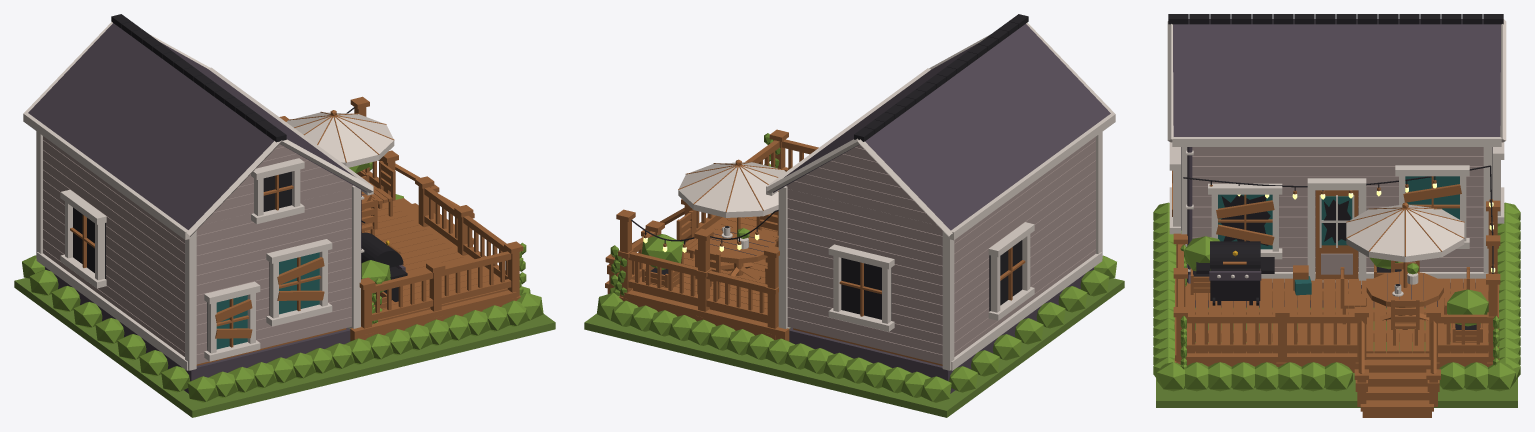
File: bld.house-c.w2.lod1.glb
3 renders of one model, left to right at view 1: azimuth 30°, elevation 25°; view 2: azimuth 150°, elevation 25°; view 3: azimuth 270°, elevation 25°, orthographic.
Parts seen in each view (by area): view 1: object 7, roof, body, door_grill_lid; view 2: object 7, roof, body; view 3: object 7, roof, body, door_back, door_grill_lid.
Boxes of the visible parts, box(x1,y1,x2,y2) form: object 7: box(14, 96, 555, 417); roof: box(23, 14, 373, 239); body: box(36, 112, 394, 370); door_grill_lid: box(361, 232, 403, 267); object 7: box(584, 129, 1124, 417); roof: box(766, 14, 1115, 240); body: box(678, 132, 1102, 370); object 7: box(1153, 147, 1520, 417); roof: box(1167, 14, 1506, 146); body: box(1169, 142, 1504, 296); door_back: box(1315, 190, 1358, 279); door_grill_lid: box(1210, 241, 1260, 268).
Size of the model in its own units: 9.23 by 5.77 by 7.41.
